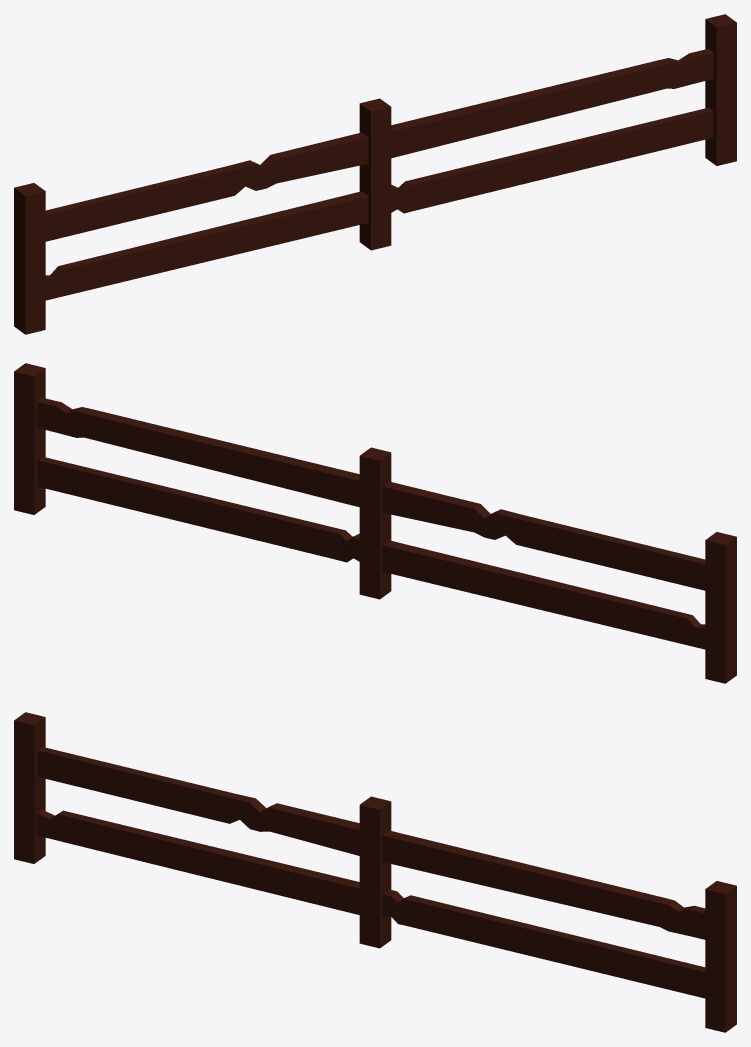
The model's file is FenceA.FBX.
The picture shows the model from 3 angles, top to bottom: view 1: azimuth 30°, elevation 25°; view 2: azimuth 150°, elevation 25°; view 3: azimuth 330°, elevation 25°; orthographic projection.
Visible parts, largest first — view 1: FenceA; view 2: FenceA; view 3: FenceA.
Boxes of the visible parts, x1,y1,x2,y2 form: FenceA: [14, 14, 736, 334]; FenceA: [14, 363, 736, 683]; FenceA: [14, 712, 736, 1032].
Bounding box in the file's own units: 589 × 110 × 16.55.
